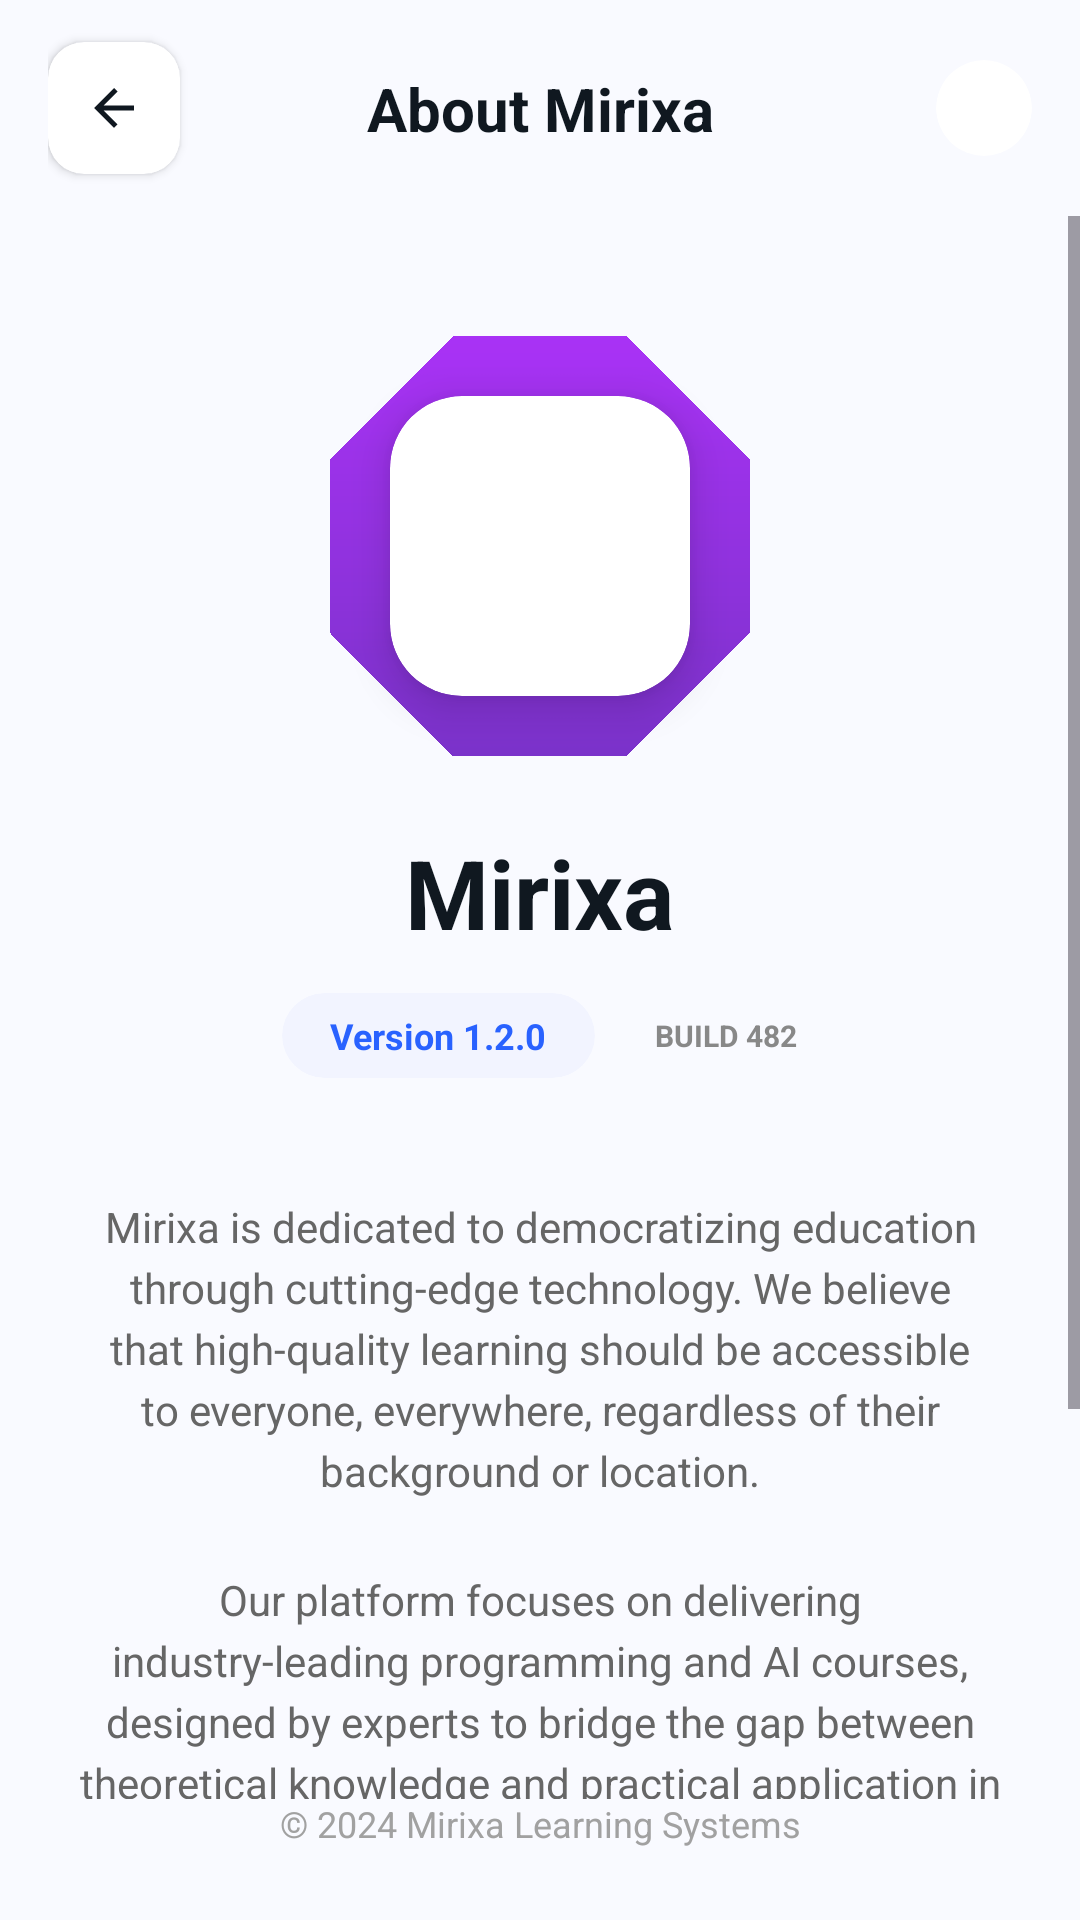

Named icons in this screenshot (1080 × 1920) and their bounding boxes, (x1, y1, x2, y2):
back: (48, 42, 180, 174)
